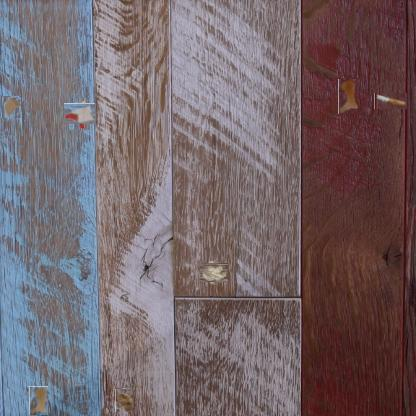dirty: (66, 101, 93, 127), (202, 260, 226, 284), (374, 93, 407, 109), (1, 96, 22, 118), (115, 388, 134, 412)
liquid: (338, 78, 359, 114), (29, 386, 48, 415)
